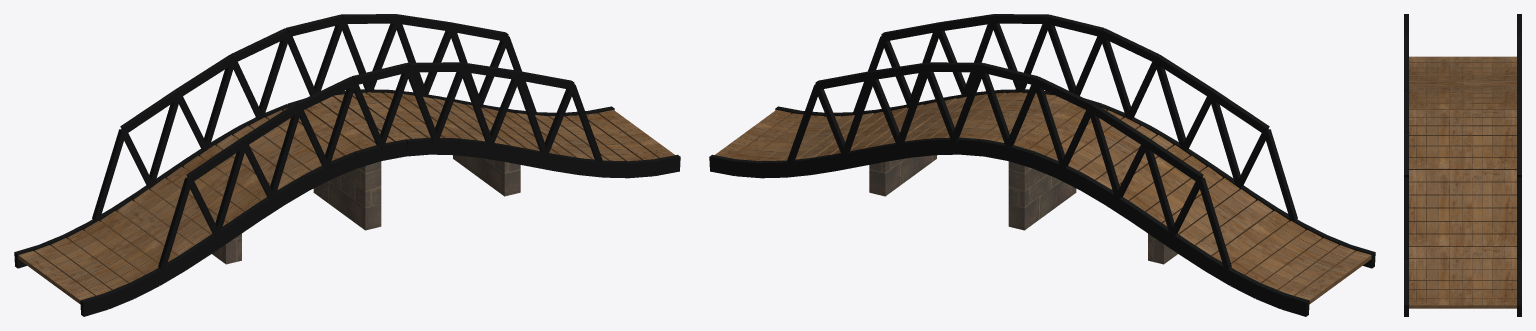
The model's file is 02 Truss Bridge.obj.
3 views of the same model, side by side, from view 1: azimuth 30°, elevation 25°; view 2: azimuth 150°, elevation 25°; view 3: azimuth 270°, elevation 25° (orthographic). The views are drawn at different scales.
Parts seen in each view (by area): view 1: SiteA_TrussBridgeRamp_deck_planks, SiteA_TrussBridgeRamp_truss_frames, SiteA_TrussBridgeRamp_side_stringers, SiteA_TrussBridgeRamp_masonry_piers; view 2: SiteA_TrussBridgeRamp_deck_planks, SiteA_TrussBridgeRamp_truss_frames, SiteA_TrussBridgeRamp_side_stringers, SiteA_TrussBridgeRamp_masonry_piers; view 3: SiteA_TrussBridgeRamp_deck_planks, SiteA_TrussBridgeRamp_truss_frames, SiteA_TrussBridgeRamp_side_stringers.
Part boxes in pixels (x1=…): SiteA_TrussBridgeRamp_deck_planks: x1=18, y1=92, x2=675, y2=304; SiteA_TrussBridgeRamp_truss_frames: x1=92, y1=14, x2=602, y2=269; SiteA_TrussBridgeRamp_side_stringers: x1=14, y1=89, x2=680, y2=316; SiteA_TrussBridgeRamp_masonry_piers: x1=212, y1=155, x2=520, y2=264; SiteA_TrussBridgeRamp_deck_planks: x1=714, y1=92, x2=1371, y2=304; SiteA_TrussBridgeRamp_truss_frames: x1=787, y1=14, x2=1297, y2=269; SiteA_TrussBridgeRamp_side_stringers: x1=709, y1=89, x2=1375, y2=316; SiteA_TrussBridgeRamp_masonry_piers: x1=869, y1=155, x2=1177, y2=264; SiteA_TrussBridgeRamp_deck_planks: x1=1409, y1=56, x2=1516, y2=308; SiteA_TrussBridgeRamp_truss_frames: x1=1404, y1=14, x2=1521, y2=259; SiteA_TrussBridgeRamp_side_stringers: x1=1404, y1=260, x2=1521, y2=316.
Size of the model in its own units: 6.01 by 1.66 by 1.2.
3 materials, 2 textured.
